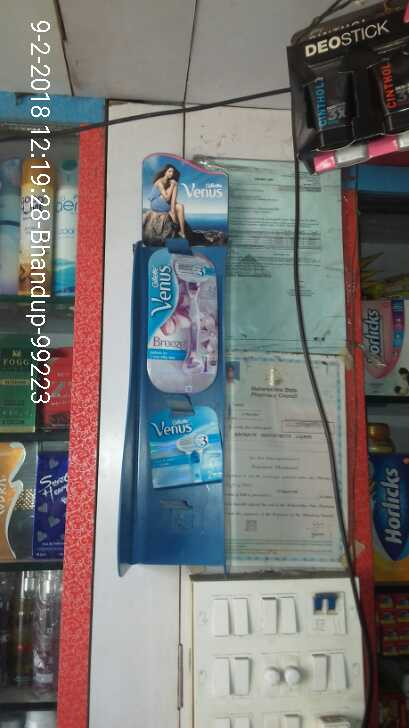beauty: (145, 246, 220, 393), (147, 412, 224, 488)
